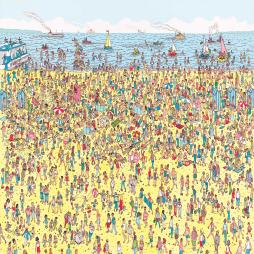odlaw: (226, 88, 228, 99)
wally: (94, 92, 99, 107)
wenda: (56, 102, 59, 107)
wizard_whitebeard: (182, 86, 187, 98)
